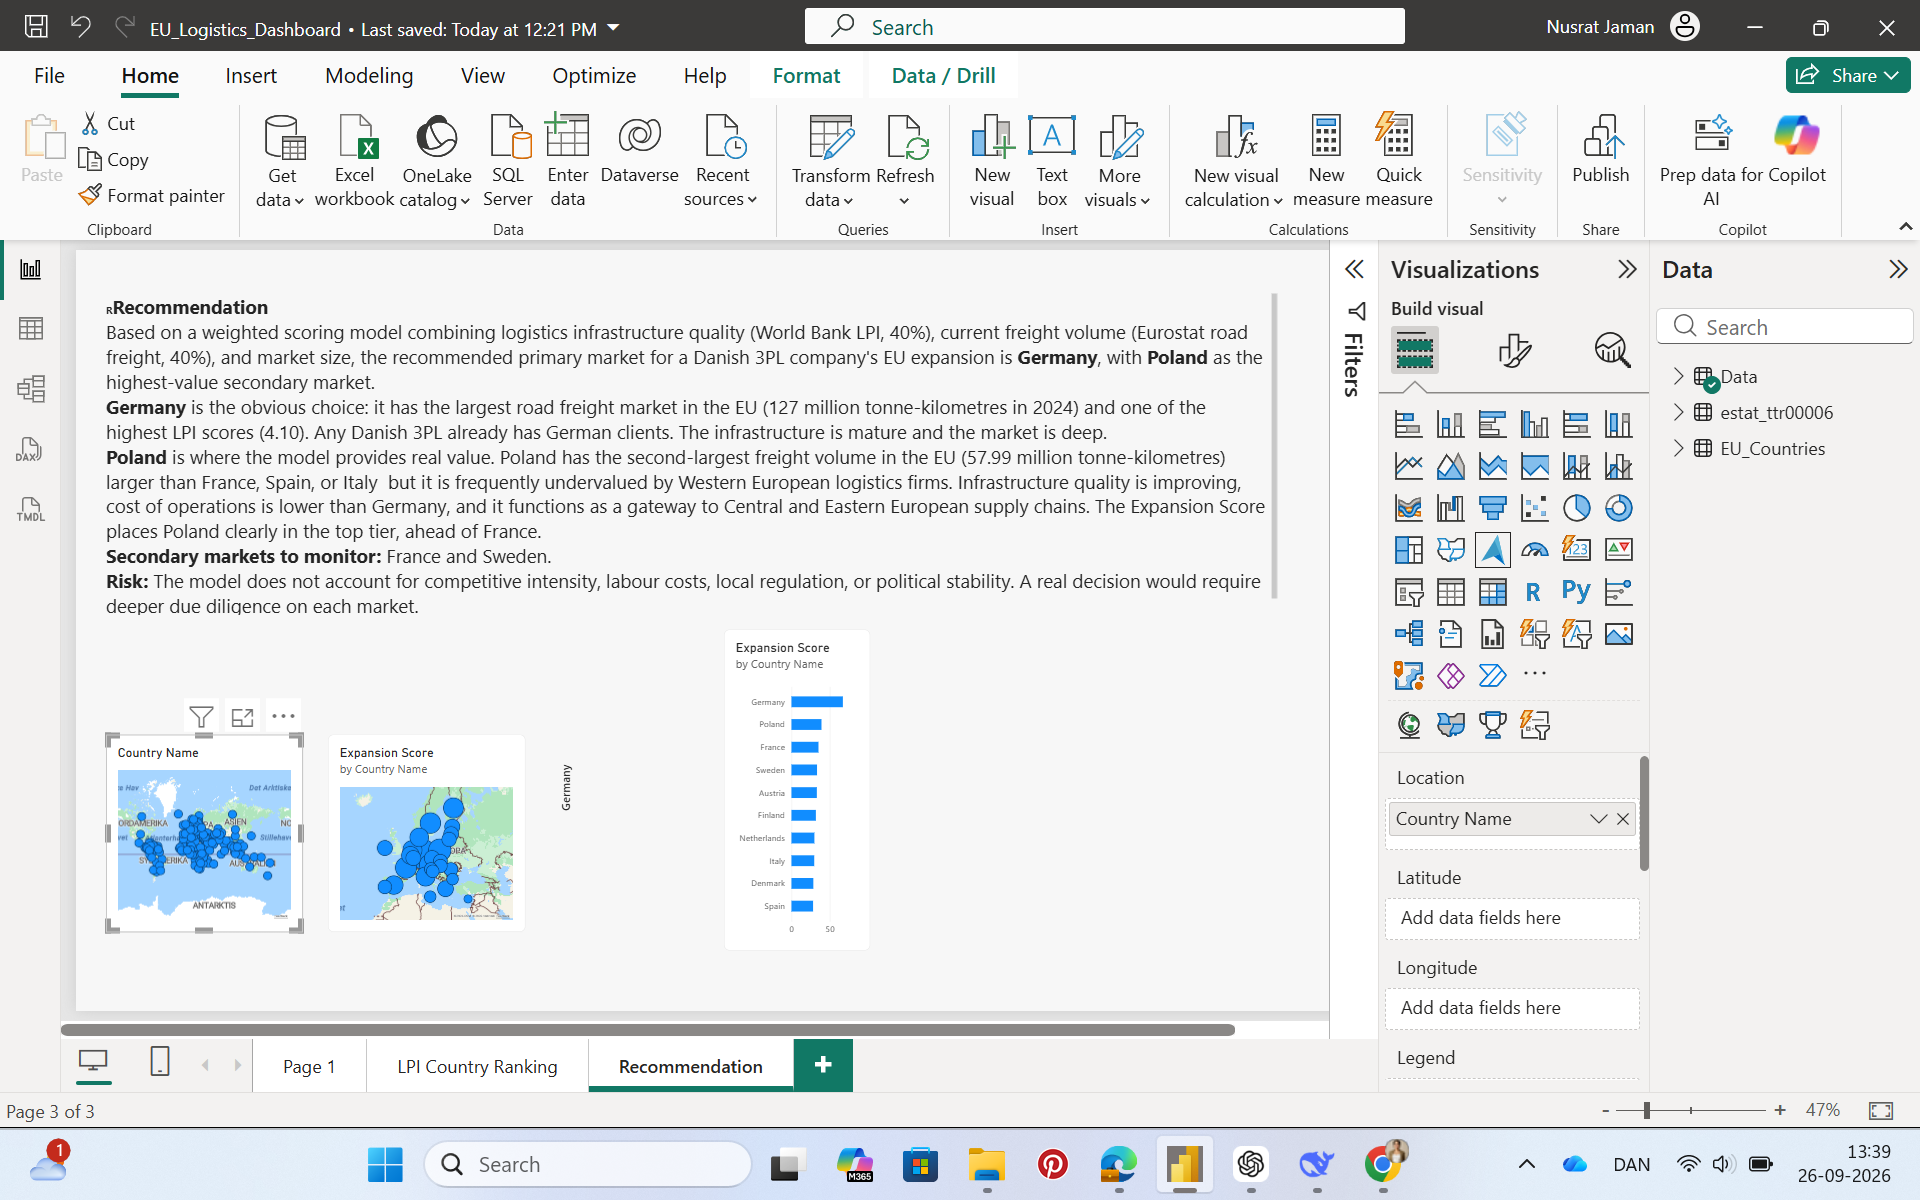

This screenshot's page, from the dashboard's own definition file:
{"tool":"powerbi","page":{"name":"Recommendation","canvas":[1920,1080],"ordinal":3},"visuals":[{"type":"map","fields":{"Category":["Data.Country Name"]},"box":[41.9,687.1,280,280],"z":0},{"type":"map","fields":{"Category":["Data.Country Name"],"Size":["Data.Expansion Score"]},"box":[358.1,687.1,280,280],"z":1},{"type":"cardVisual","fields":{"Rows":["Data.Country Name"]},"box":[683.9,687.1,300,150],"z":2},{"type":"textbox","box":[150,77.5,300,150],"z":3},{"type":"textbox","box":[0,78,300,150],"z":4},{"type":"textbox","box":[460,78,300,150],"z":5},{"type":"textbox","box":[41.9,61.3,1661.3,454.8],"z":6},{"type":"clusteredBarChart","fields":{"Category":["Data.Country Name"],"Y":["Data.Expansion Score"]},"box":[919.4,538.7,207,455],"z":7}]}

Visuals, with their boxes on the page's 1920x1080 design canvas (x1, y1, x2, y2). These are canvas units, not pixel positions in the 1920x1200 screenshot, which may show the page scaled, cropped or inside an application window:
map - Data.Country Name: [42,687,322,967]
map - Data.Country Name x Data.Expansion Score: [358,687,638,967]
cardVisual - Data.Country Name: [684,687,984,837]
textbox: [150,78,450,228]
textbox: [0,78,300,228]
textbox: [460,78,760,228]
textbox: [42,61,1703,516]
clusteredBarChart - Data.Country Name x Data.Expansion Score: [919,539,1126,994]
